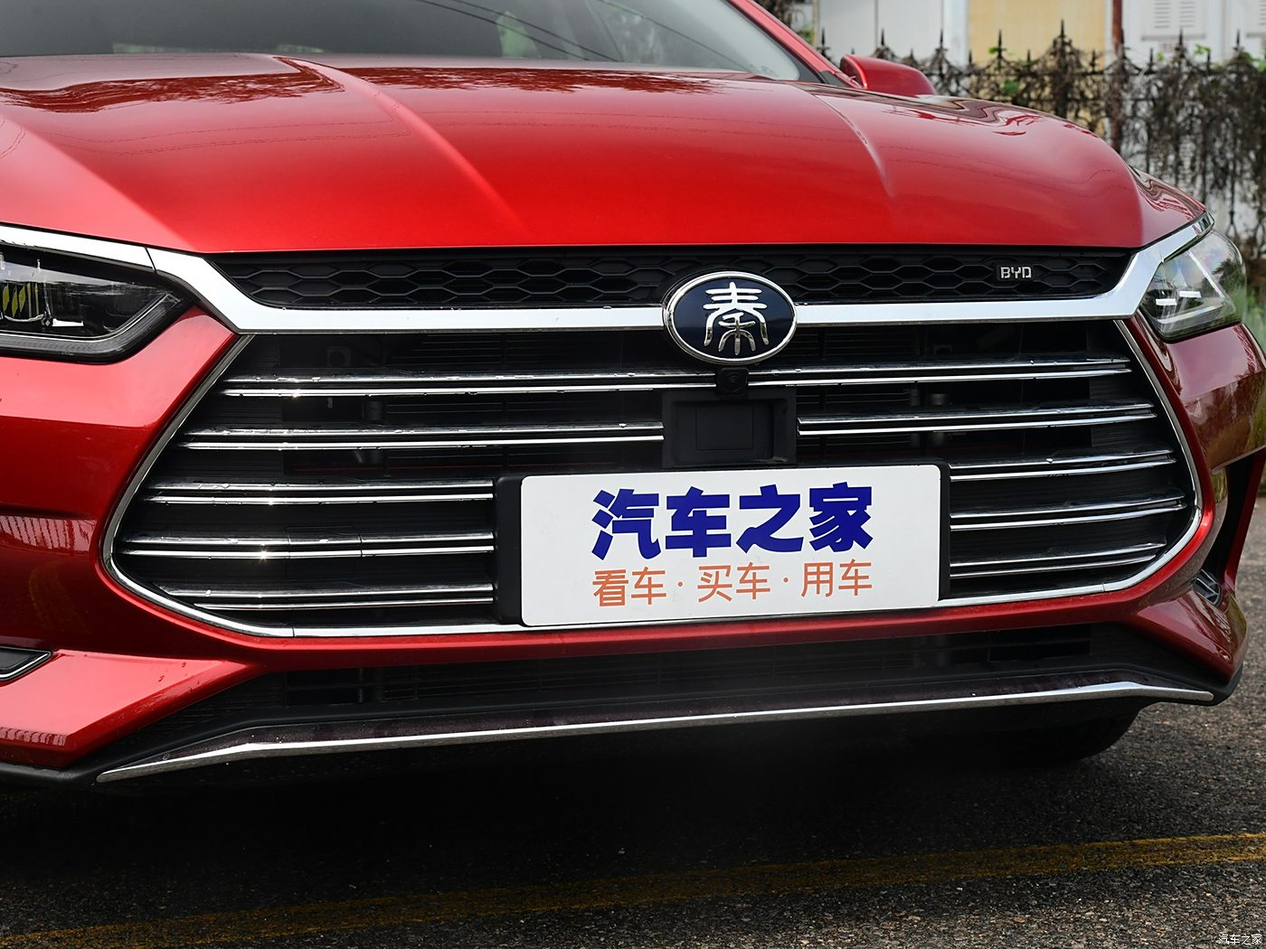BYD Qin: (666, 272, 798, 364)
